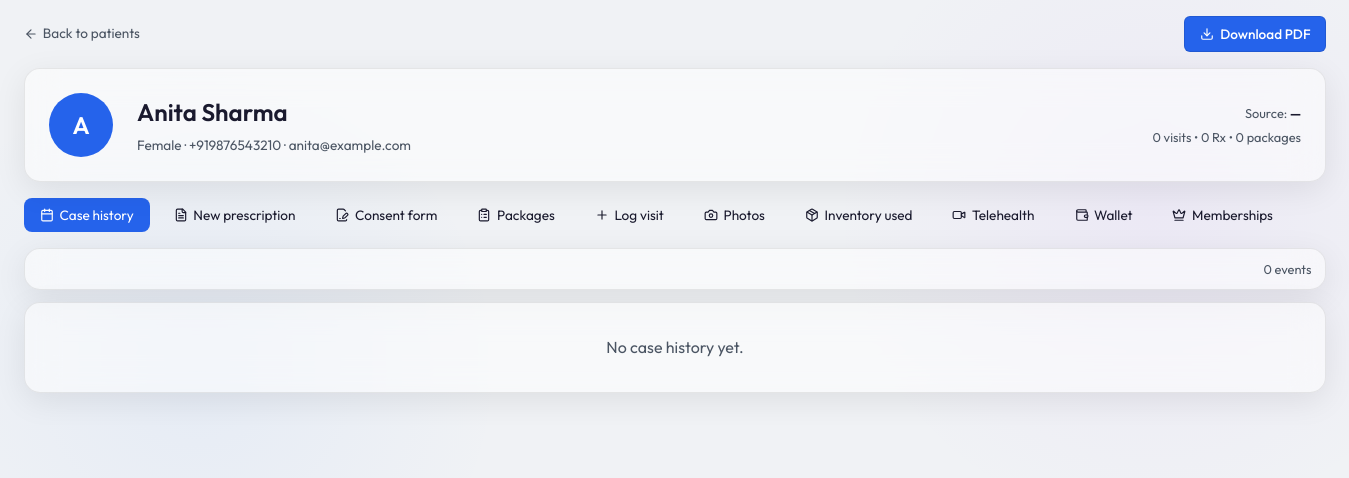
Test case: <wellness/PatientDetail /> — page surface › shows a retry option instead of stale tab data when refresh fails
Check: the heading "Anita Sharma" is shown, box left=137, top=97, right=288, bottom=127
What coordinates should you click on to do the following:
click the button "Packages"
I would click on:
 (516, 215)
Its box is left=462, top=198, right=571, bottom=232.
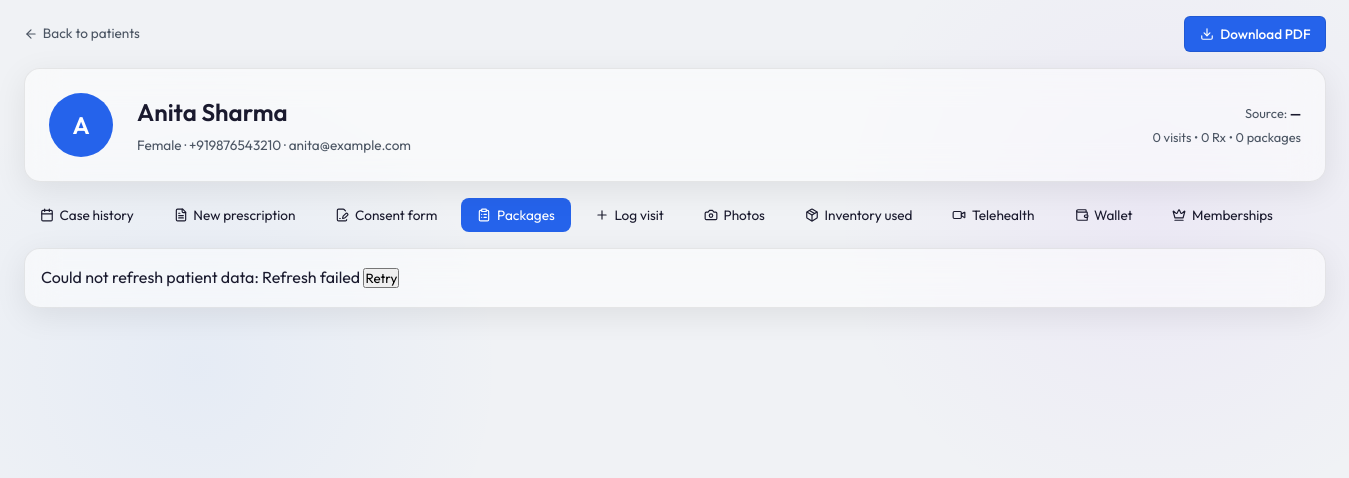
Check: the text "No packages yet." is not shown
Check: the message shows "Refresh failed", box left=262, top=267, right=360, bottom=287
What coordinates should you click on to do the following:
click the button "Retry"
I would click on:
 (382, 278)
Its box is left=364, top=268, right=400, bottom=288.
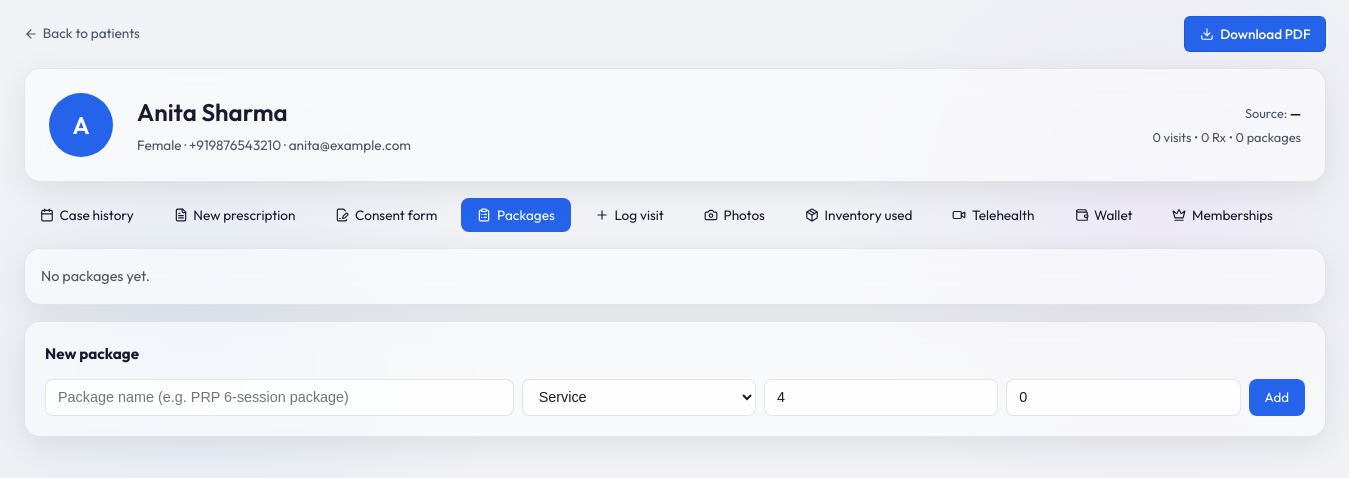
Check: the text "No packages yet." is shown, box left=24, top=248, right=1326, bottom=305
